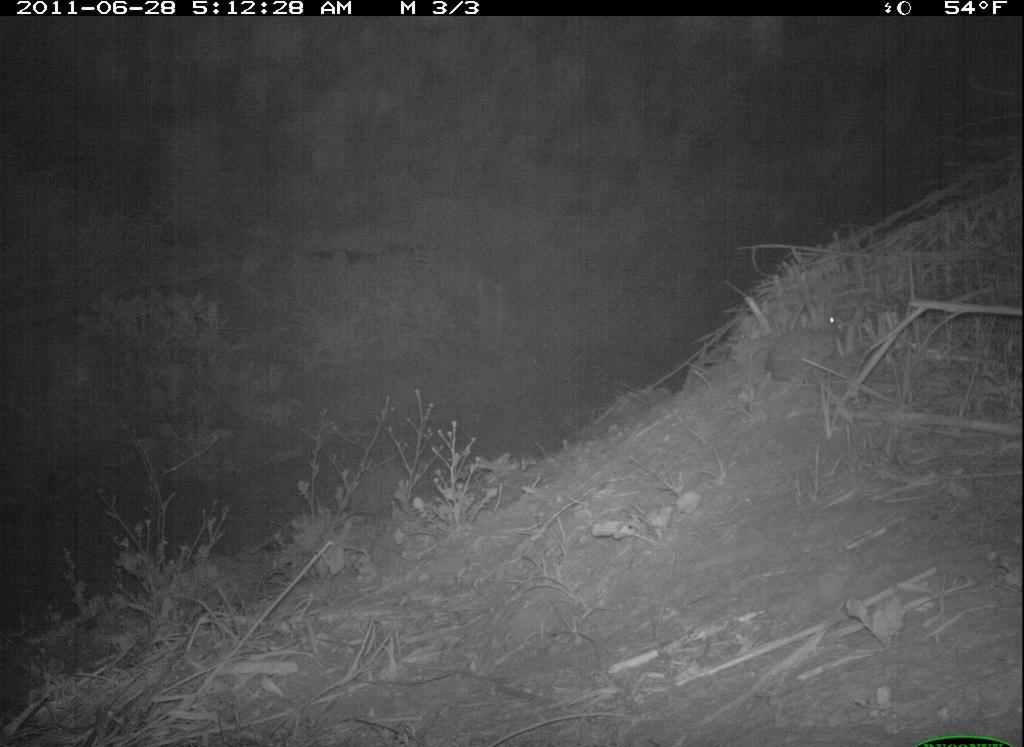rabbit: (756, 280, 875, 399)
